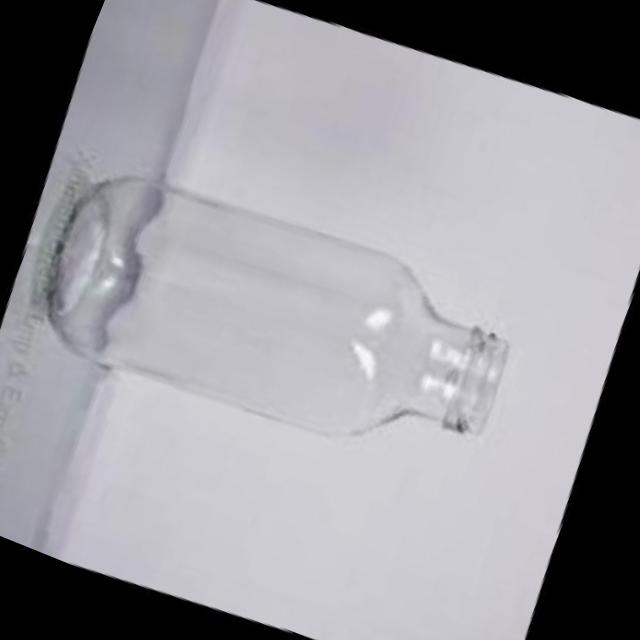ToplesKaca: (12, 132, 534, 514)
